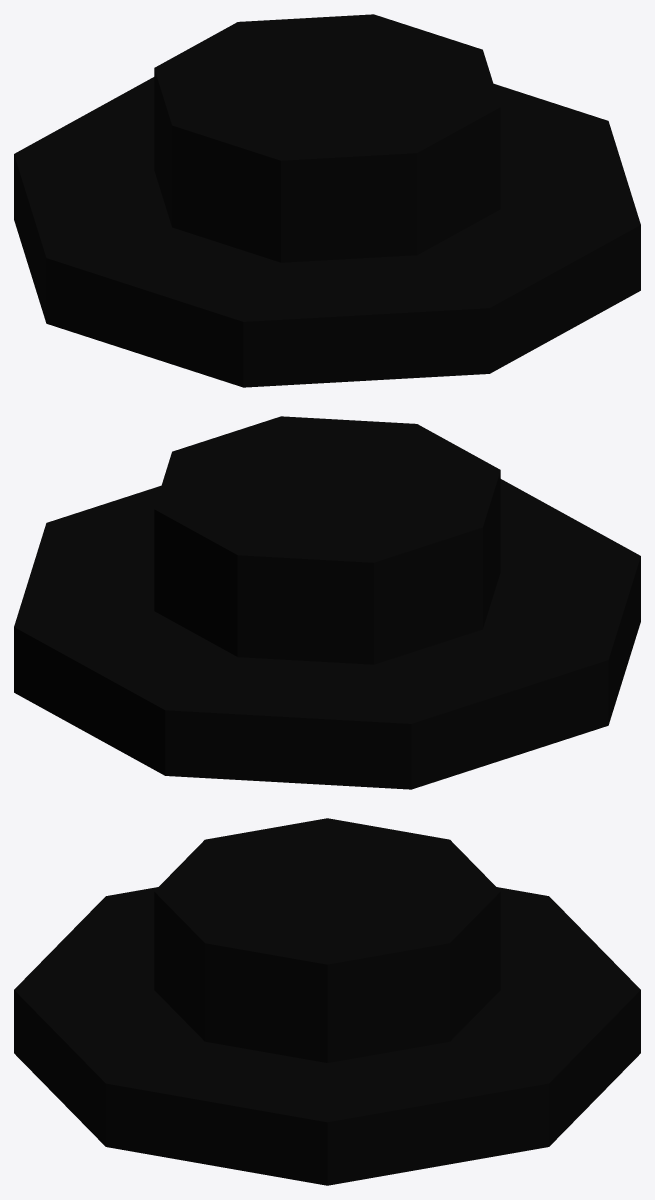
Rendered from CraneBase.fbx.
3 renders of one model, top to bottom at view 1: azimuth 30°, elevation 25°; view 2: azimuth 150°, elevation 25°; view 3: azimuth 270°, elevation 25°, orthographic. The views are drawn at different scales.
Visible parts, largest first — view 1: Cylinder; view 2: Cylinder; view 3: Cylinder.
Part boxes in pixels (x1,y1,x2,y2): Cylinder: (14,14,640,387); Cylinder: (14,416,640,789); Cylinder: (14,818,640,1185).
Size of the model in its own units: 934 by 266 by 934.
